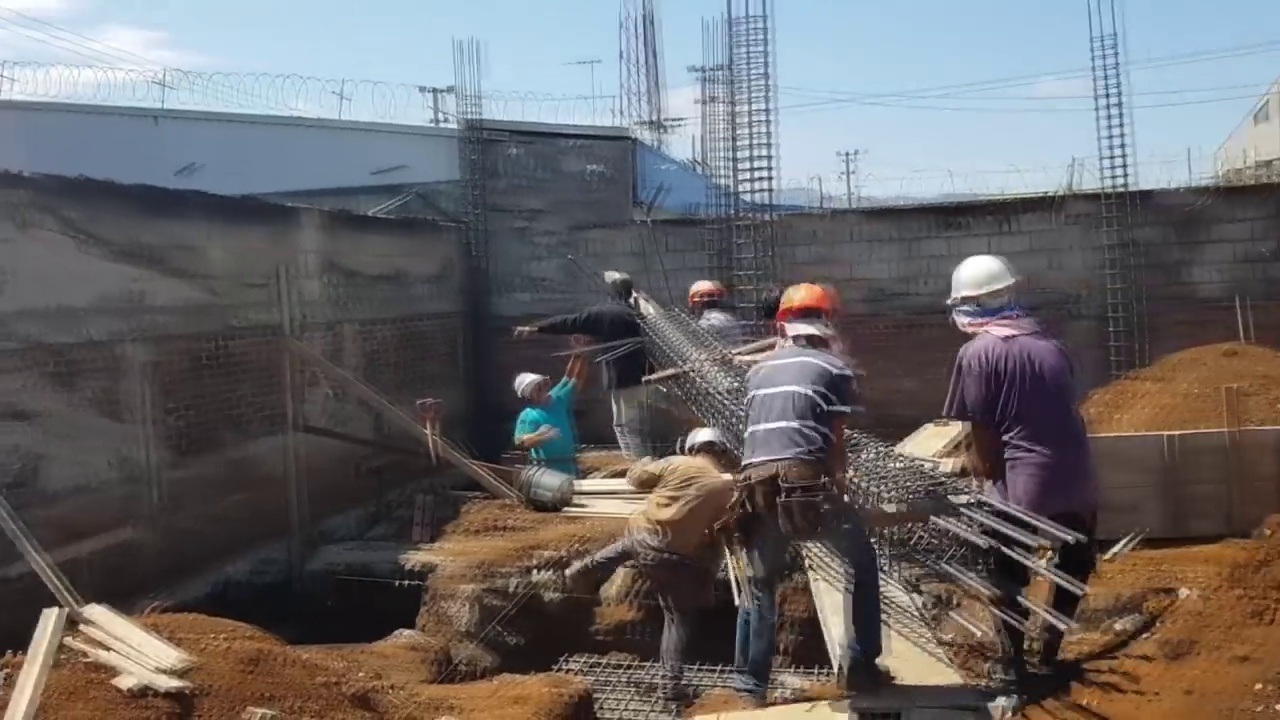helmet: (939, 245, 1023, 316), (775, 282, 841, 333), (685, 426, 729, 456), (687, 279, 724, 307), (513, 371, 546, 400)
helmet-off: (602, 274, 638, 307)
helmet-on: (942, 254, 1025, 340), (773, 282, 851, 360), (511, 369, 554, 413), (690, 430, 732, 470), (687, 278, 724, 320)
person: (724, 264, 884, 708), (941, 260, 1098, 684), (600, 428, 733, 700), (518, 274, 655, 464), (511, 350, 589, 483), (686, 276, 742, 354)
